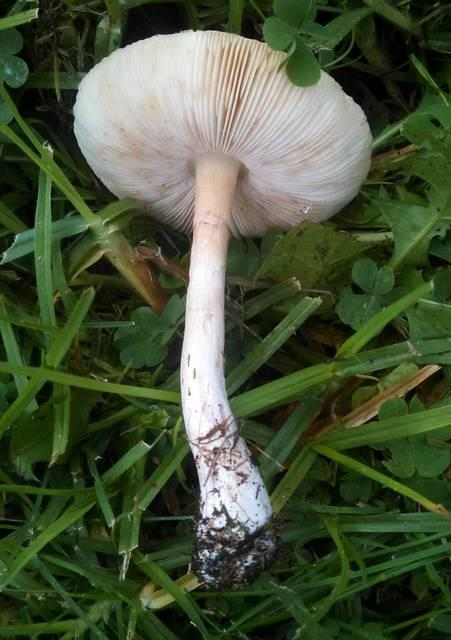Non-edible Mushroom: (70, 28, 374, 591)
